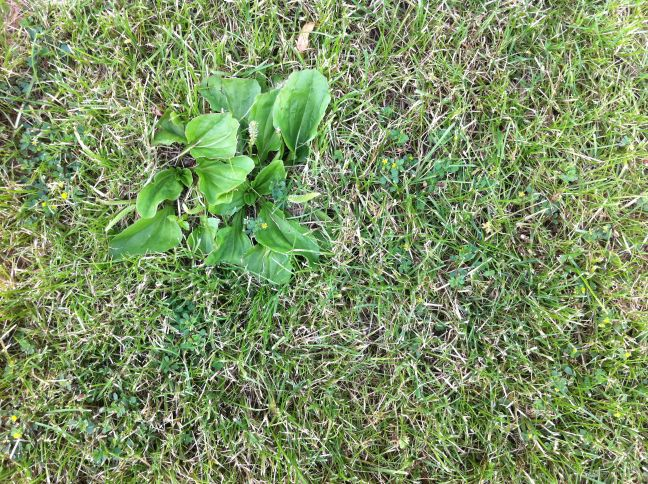weed1: (104, 70, 334, 291)
